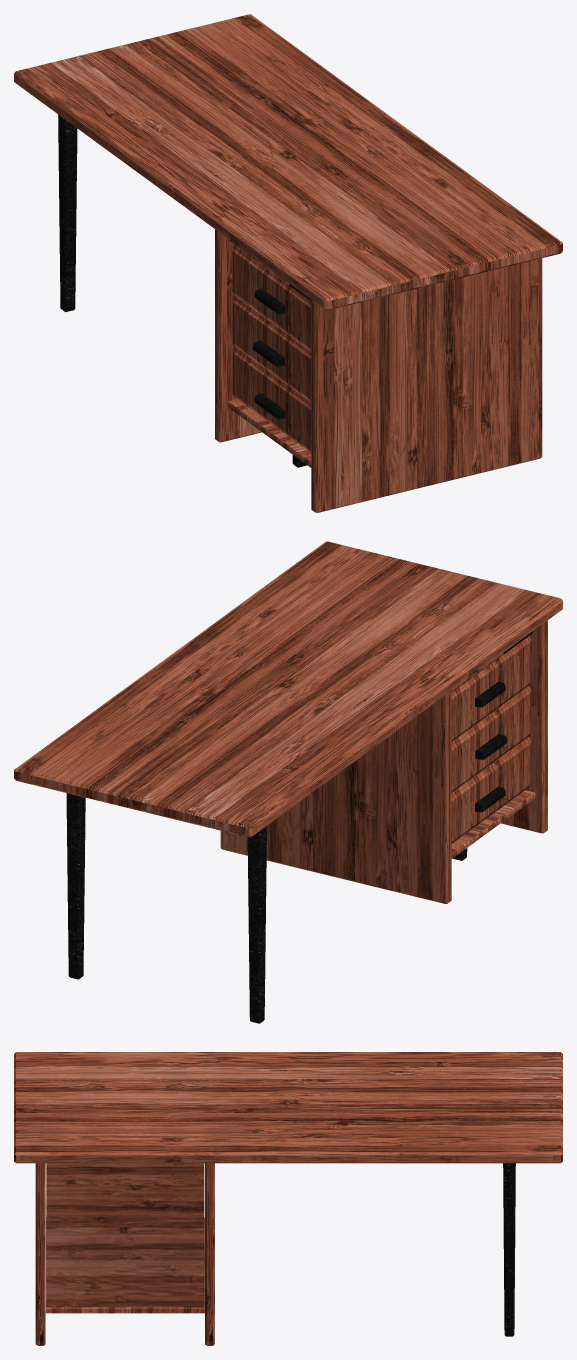
File: desk.FBX
3 renders of one model, top to bottom at view 1: azimuth 30°, elevation 25°; view 2: azimuth 150°, elevation 25°; view 3: azimuth 270°, elevation 25°, orthographic. The views are drawn at different scales.
Visible parts, largest first — view 1: Box001; view 2: Box001; view 3: Box001.
Part boxes in pixels (box(x1,y1,x2,y2)): Box001: box(14, 14, 562, 512); Box001: box(14, 541, 562, 1023); Box001: box(14, 1052, 562, 1345).
Size of the model in its own units: 53.1 by 47.64 by 121.
Materials: 1 (1 with a texture image).
